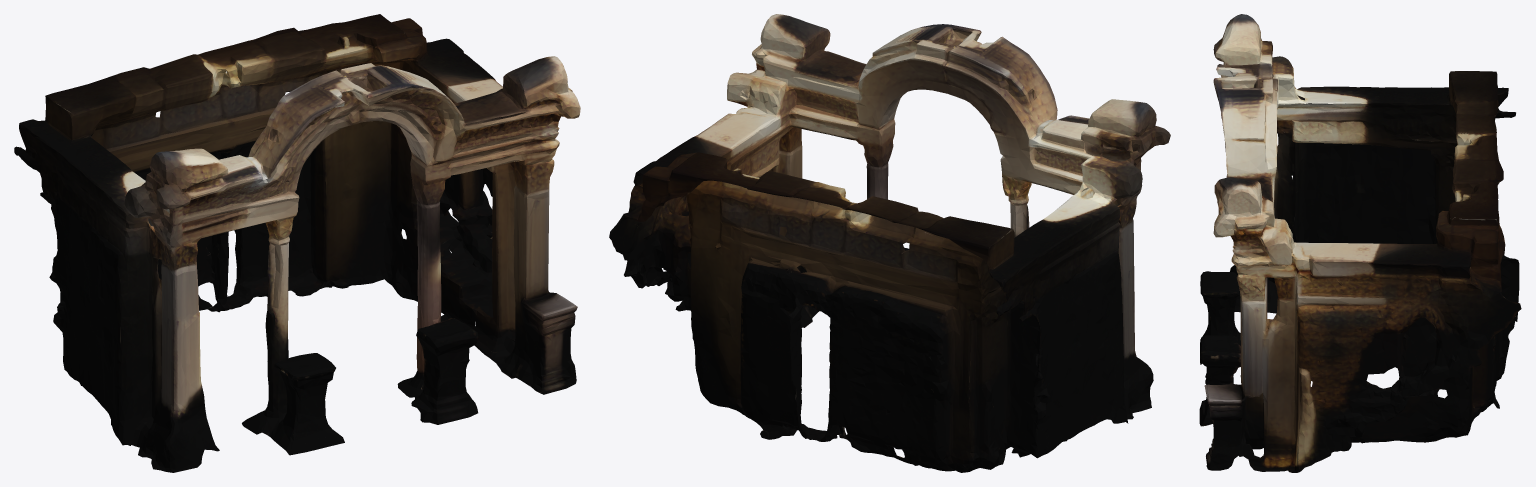
3 renders of one model, left to right at view 1: azimuth 30°, elevation 25°; view 2: azimuth 150°, elevation 25°; view 3: azimuth 270°, elevation 25°, orthographic. The views are drawn at different scales.
Parts seen in each view (by area): view 1: world; view 2: world; view 3: world.
Boxes of the visible parts, x1,y1,x2,y2 form: world: [14, 14, 580, 472]; world: [609, 14, 1170, 472]; world: [1199, 14, 1521, 472].
Size of the model in its own units: 99.45 by 74.79 by 71.24.
1 material, 1 textured.
